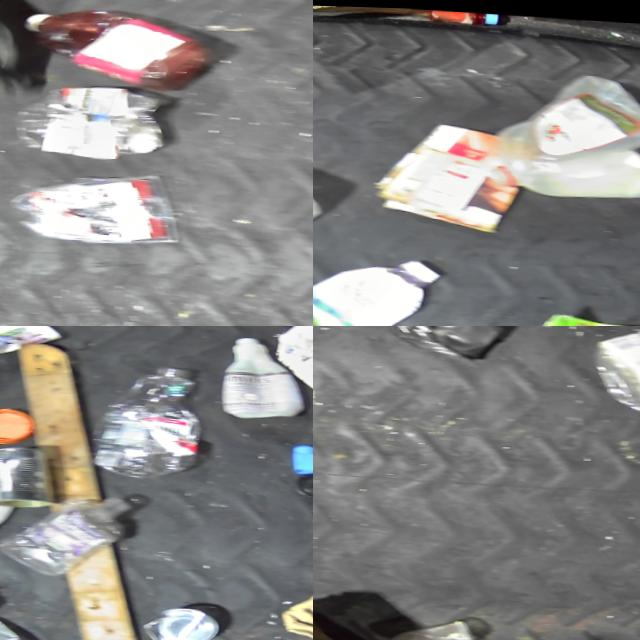can: (0, 441, 67, 508), (147, 600, 229, 640)
milk_jug: (0, 402, 30, 538), (269, 326, 313, 410)
plastic_bottle: (85, 357, 216, 481), (0, 485, 144, 582)
